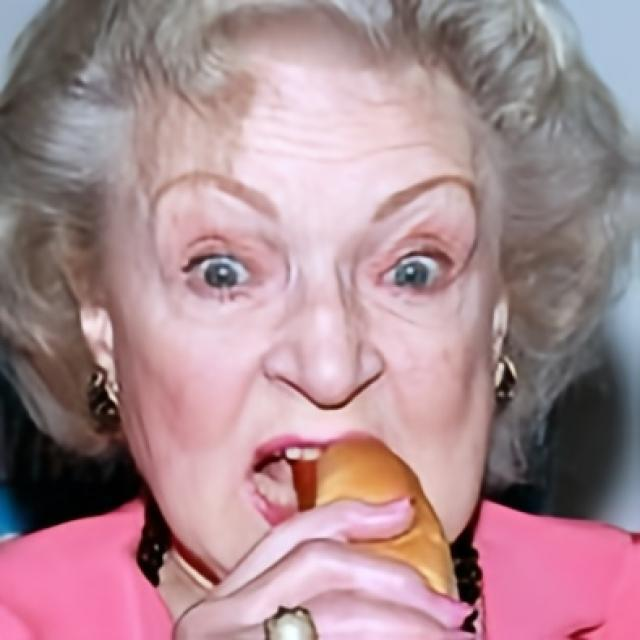anger: (111, 46, 502, 604)
